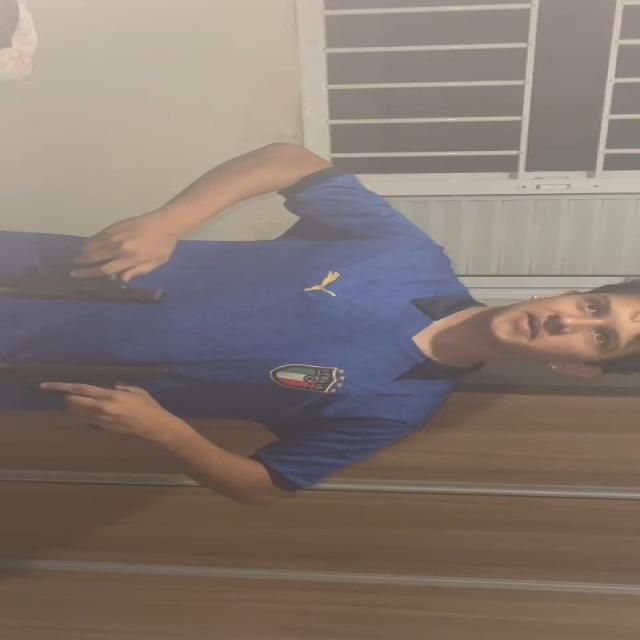gun: (0, 270, 166, 306), (2, 356, 176, 384)
